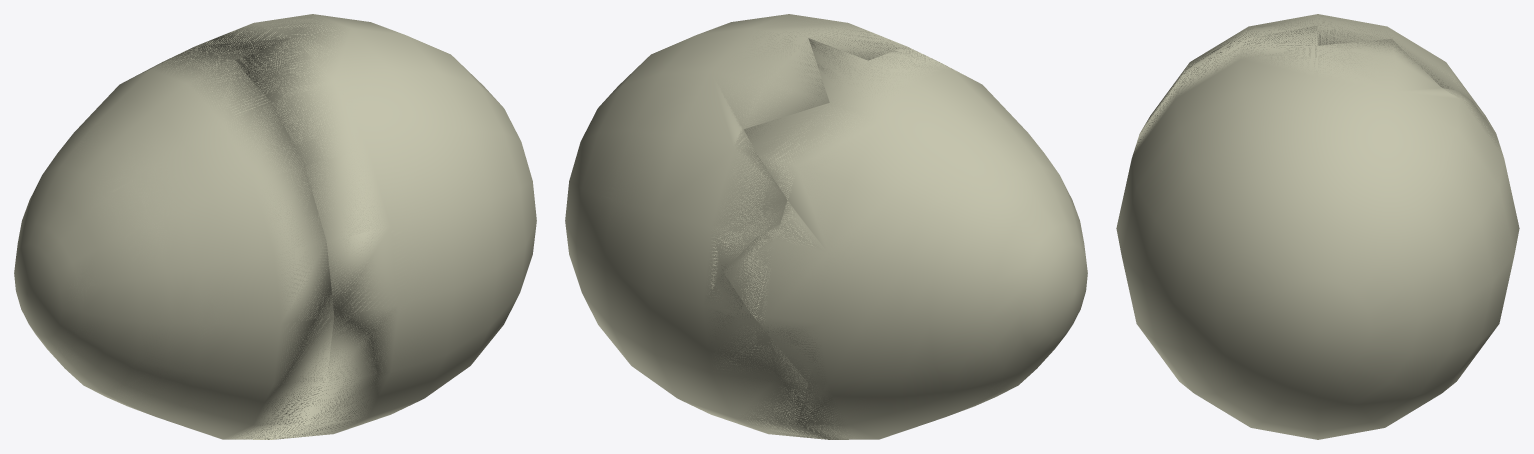
The model's file is egg.fbx.
3 renders of one model, left to right at view 1: azimuth 30°, elevation 25°; view 2: azimuth 150°, elevation 25°; view 3: azimuth 270°, elevation 25°, orthographic. The views are drawn at different scales.
Visible parts, largest first — view 1: egg; view 2: egg; view 3: egg.
Boxes of the visible parts, <box> form: egg: <box>14,14,536,439</box>; egg: <box>565,14,1087,439</box>; egg: <box>1116,14,1519,439</box>.
Bounding box in the file's own units: 21.49 × 16.05 × 16.05.
